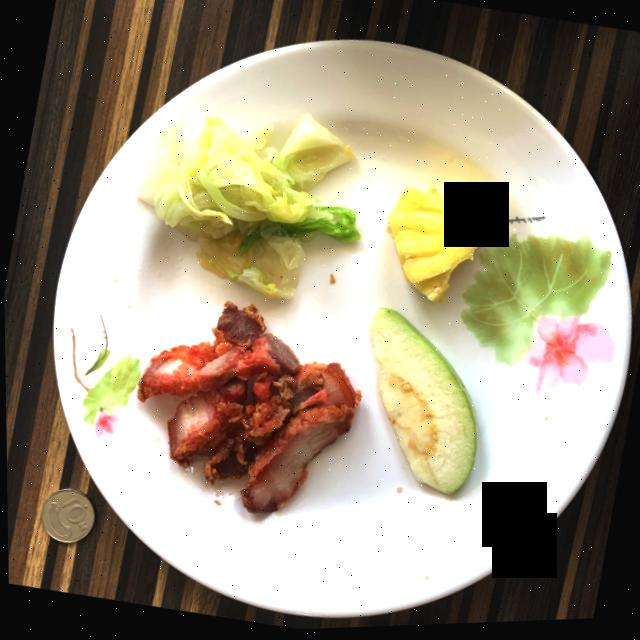cabbage: (137, 117, 358, 301)
coin: (39, 489, 94, 544)
guava -sliced-: (368, 311, 475, 497)
pineapple: (388, 191, 503, 308)
red grilled pork: (136, 304, 360, 515)
